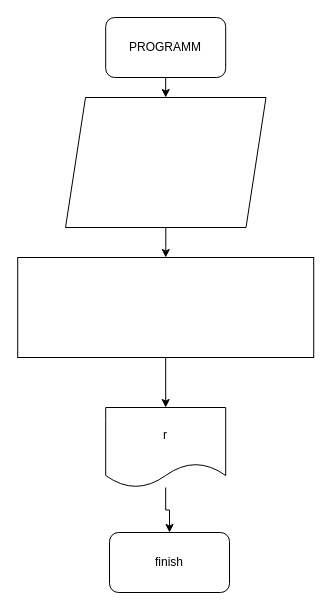
This 331x610 diagram has some shape labels left out. Each missing label, with the centre of its shape:
"a=123456 b=245678 c=892135 d=423185 e=567890 f=325429 k l r" goes at point 165,162.
"k=a+b+c+d+e+f; l=a*1000000+c; r=((k-l)*10/100+e+f)*11/100;" goes at point 165,307.
